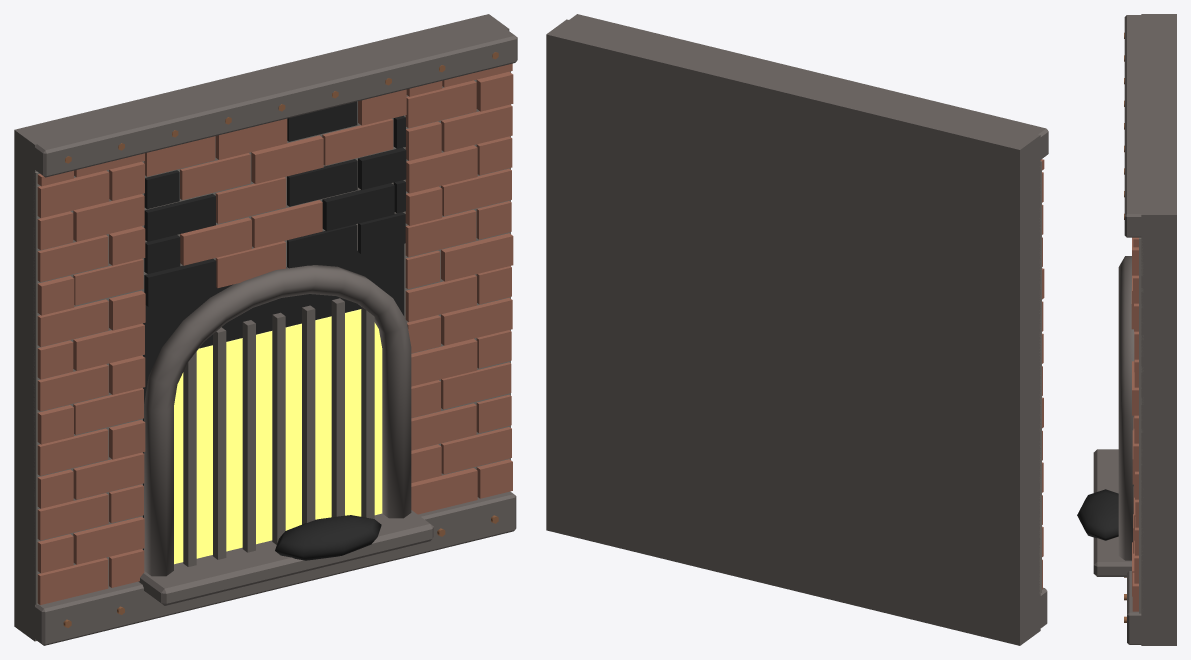
The model's file is wall_wk_furnace.glb.
3 renders of one model, left to right at view 1: azimuth 30°, elevation 25°; view 2: azimuth 150°, elevation 25°; view 3: azimuth 270°, elevation 25°, orthographic. The views are drawn at different scales.
Parts seen in each view (by area): view 1: wall_wk_furnace; view 2: wall_wk_furnace; view 3: wall_wk_furnace.
Part boxes in pixels (box(x1,y1,x2,y2)): wall_wk_furnace: box(14, 14, 517, 645); wall_wk_furnace: box(546, 14, 1048, 645); wall_wk_furnace: box(1077, 14, 1176, 645).
Bounding box in the file's own units: 4 × 4 × 0.84.
